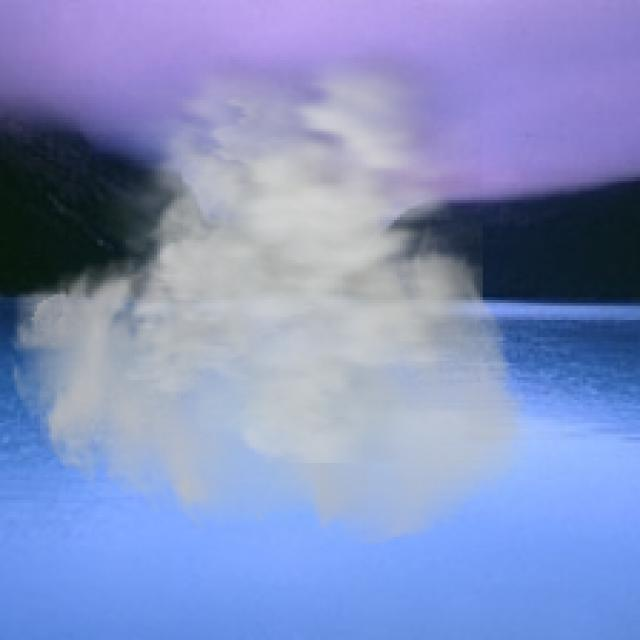Smoke: (6, 34, 534, 549)
